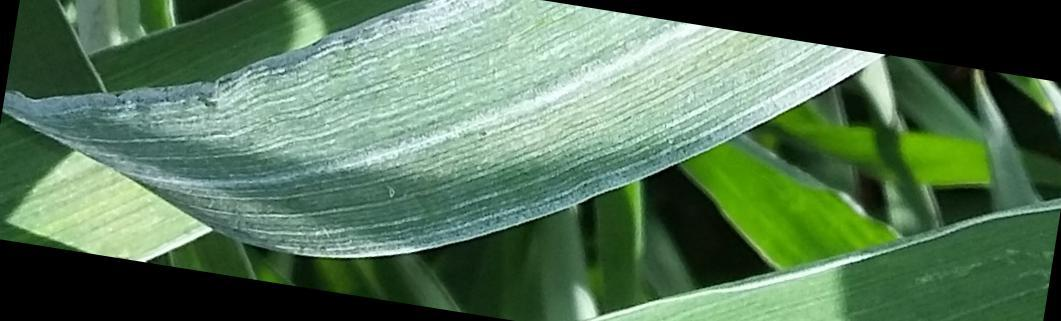Wheat: (41, 9, 628, 239)
